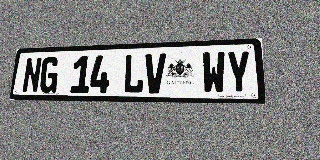1: (70, 56, 92, 93)
4: (89, 55, 111, 93)
G: (39, 57, 60, 93)
L: (123, 54, 145, 93)
N: (21, 57, 42, 93)
V: (144, 53, 166, 94)
W: (202, 51, 226, 94)
Y: (226, 51, 252, 94)
